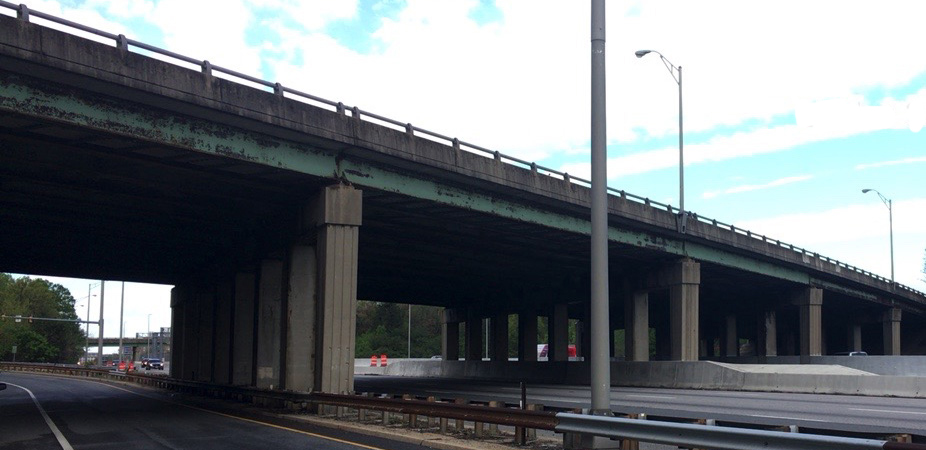bridge: (3, 7, 925, 327)
